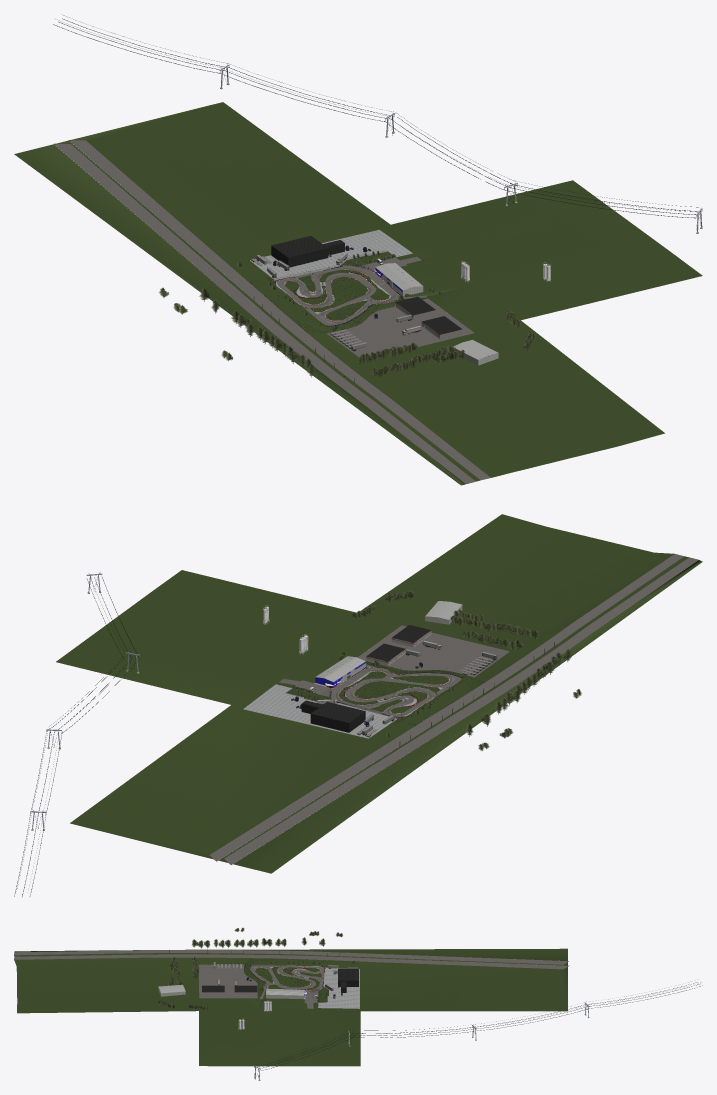
Rendered from kartbahn_lider.glb.
3 renders of one model, top to bottom at view 1: azimuth 30°, elevation 25°; view 2: azimuth 150°, elevation 25°; view 3: azimuth 270°, elevation 25°, orthographic. The views are drawn at different scales.
Parts seen in each view (by area): view 1: object 1194, object 101, object 14, object 83, object 1004; view 2: object 1194, object 101, object 14, object 83, object 1004; view 3: object 1194, object 101, object 14, object 83, object 1004, LEP500_WIRE_004_None_0, LEP500_WIRE_003_None_0, LEP500_WIRE_005_None_0.
Boxes of the visible parts, <box> form: object 1194: <box>14,102,702,485</box>; object 101: <box>54,140,490,483</box>; object 14: <box>250,229,427,332</box>; object 83: <box>283,263,498,365</box>; object 1004: <box>271,236,328,267</box>; object 1194: <box>56,514,702,873</box>; object 101: <box>210,554,698,864</box>; object 14: <box>243,649,484,738</box>; object 83: <box>315,601,462,715</box>; object 1004: <box>310,701,365,732</box>; object 1194: <box>14,948,567,1066</box>; object 101: <box>14,950,569,1008</box>; object 14: <box>235,958,359,1008</box>; object 83: <box>158,966,321,999</box>; object 1004: <box>338,968,358,986</box>; LEP500_WIRE_004_None_0: <box>348,1024,473,1039</box>; LEP500_WIRE_003_None_0: <box>472,1004,589,1037</box>; LEP500_WIRE_005_None_0: <box>585,982,702,1013</box>.
Size of what is drawn, in the model's own units: 468 by 25.26 by 907.
Materials: 92 (85 with a texture image).
